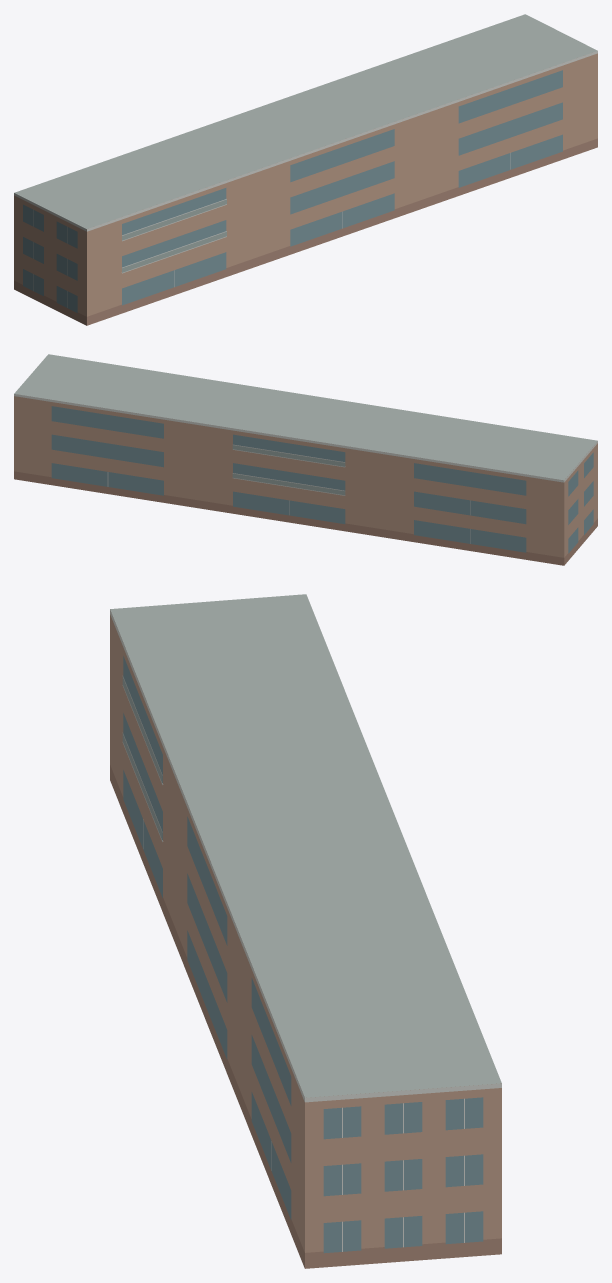
File: survey-upis-32753550.glb
3 views of the same model, one above another, from view 1: azimuth 30°, elevation 25°; view 2: azimuth 150°, elevation 25°; view 3: azimuth 270°, elevation 25° (orthographic). The views are drawn at different scales.
Parts seen in each view (by area): view 1: survey-upis-32753550.tmp; view 2: survey-upis-32753550.tmp; view 3: survey-upis-32753550.tmp.
Part boxes in pixels (left/top/right/bottom): survey-upis-32753550.tmp: left=14, top=14, right=597, bottom=325; survey-upis-32753550.tmp: left=14, top=354, right=597, bottom=565; survey-upis-32753550.tmp: left=110, top=594, right=501, bottom=1268.
Bounding box in the file's own units: 57.85 × 9.15 × 19.03.
